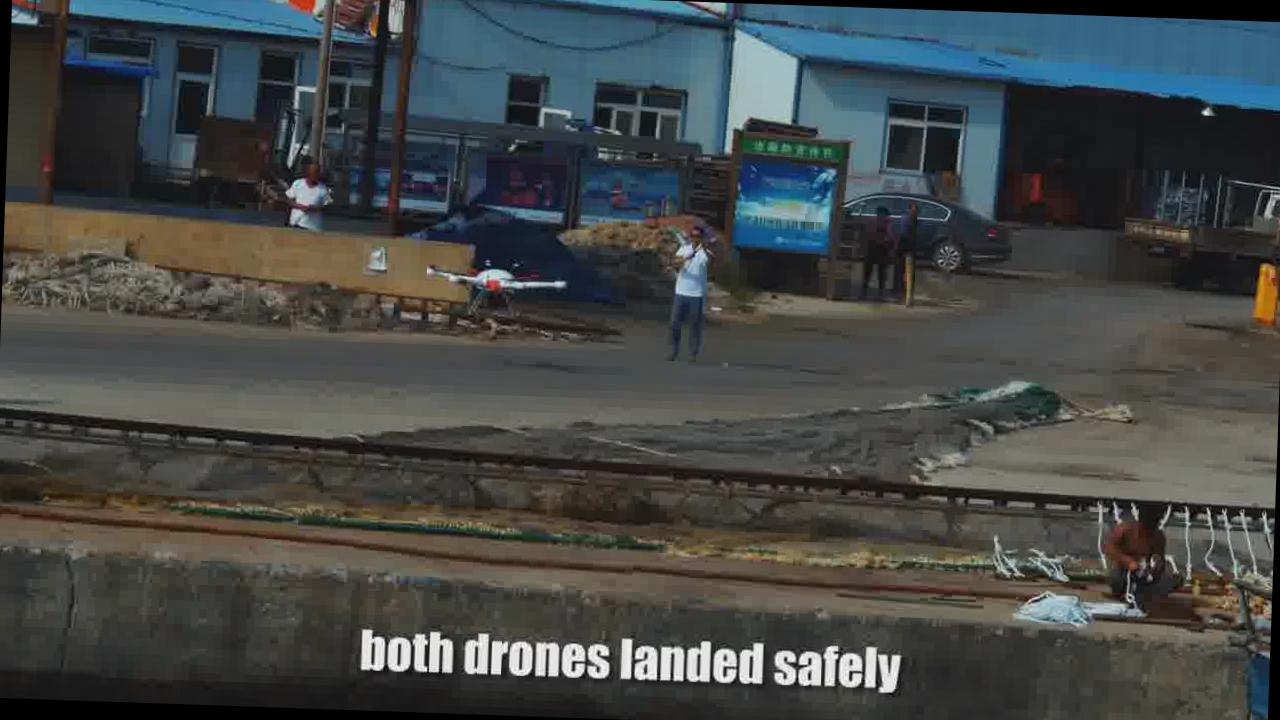drone: (412, 251, 568, 315)
